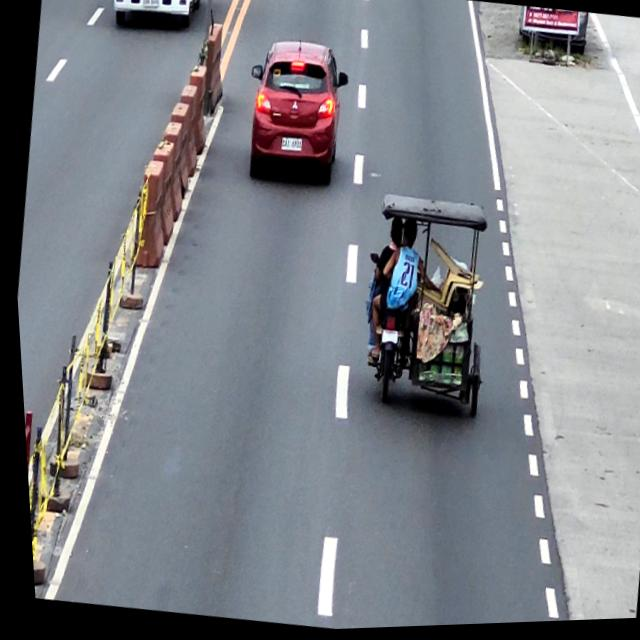Car: (235, 37, 357, 193)
License-Plate: (279, 139, 302, 155), (375, 332, 394, 349), (142, 0, 161, 11)
Tricycle: (345, 190, 505, 429)
Truck: (107, 0, 208, 38)
